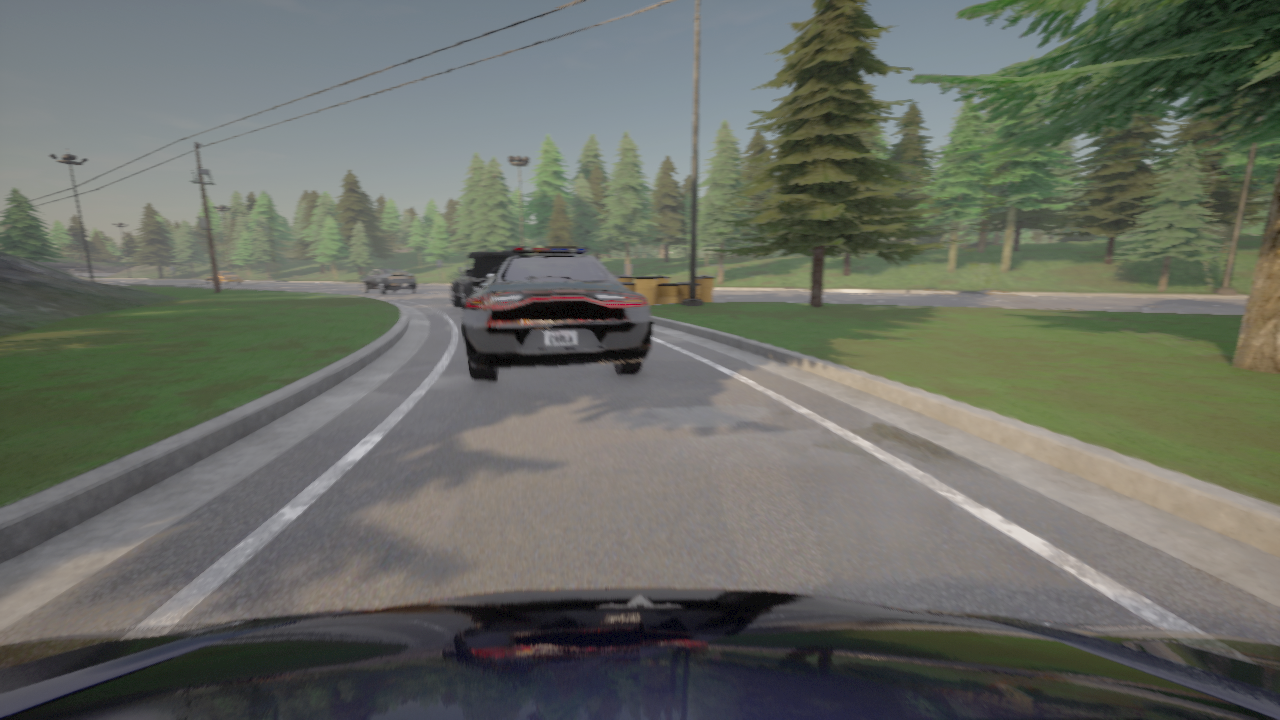cyclist: (0, 588, 1279, 719), (461, 247, 651, 381), (450, 251, 515, 308), (360, 268, 417, 295), (205, 270, 243, 285)
